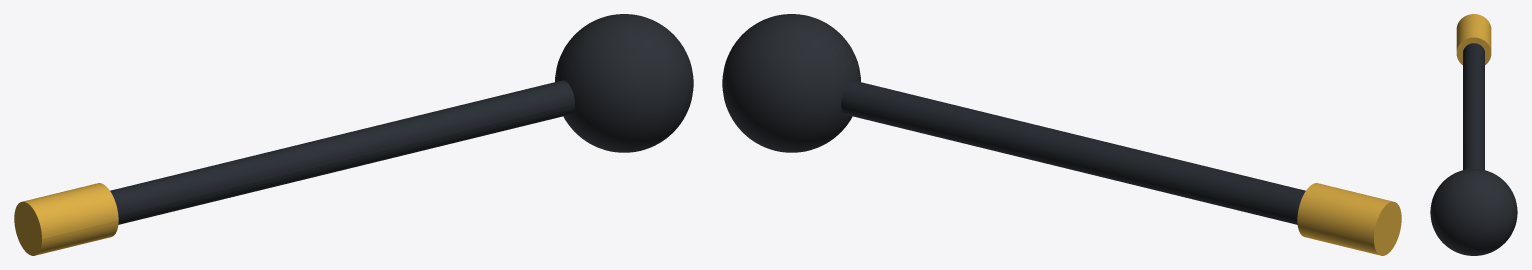
The model's file is foxeer-lollipop-4-plus.glb.
3 views of the same model, side by side, from view 1: azimuth 30°, elevation 25°; view 2: azimuth 150°, elevation 25°; view 3: azimuth 270°, elevation 25° (orthographic). The views are drawn at different scales.
Visible parts, largest first — view 1: Foxeer_PA1474_Lollipop_4_Plus_RHCP_MMCX; view 2: Foxeer_PA1474_Lollipop_4_Plus_RHCP_MMCX; view 3: Foxeer_PA1474_Lollipop_4_Plus_RHCP_MMCX.
Part boxes in pixels (x1,y1,x2,y2): Foxeer_PA1474_Lollipop_4_Plus_RHCP_MMCX: [14, 14, 693, 255]; Foxeer_PA1474_Lollipop_4_Plus_RHCP_MMCX: [722, 14, 1401, 255]; Foxeer_PA1474_Lollipop_4_Plus_RHCP_MMCX: [1430, 14, 1517, 255].
Bounding box in the file's own units: 0.06 × 0.011 × 0.011.
